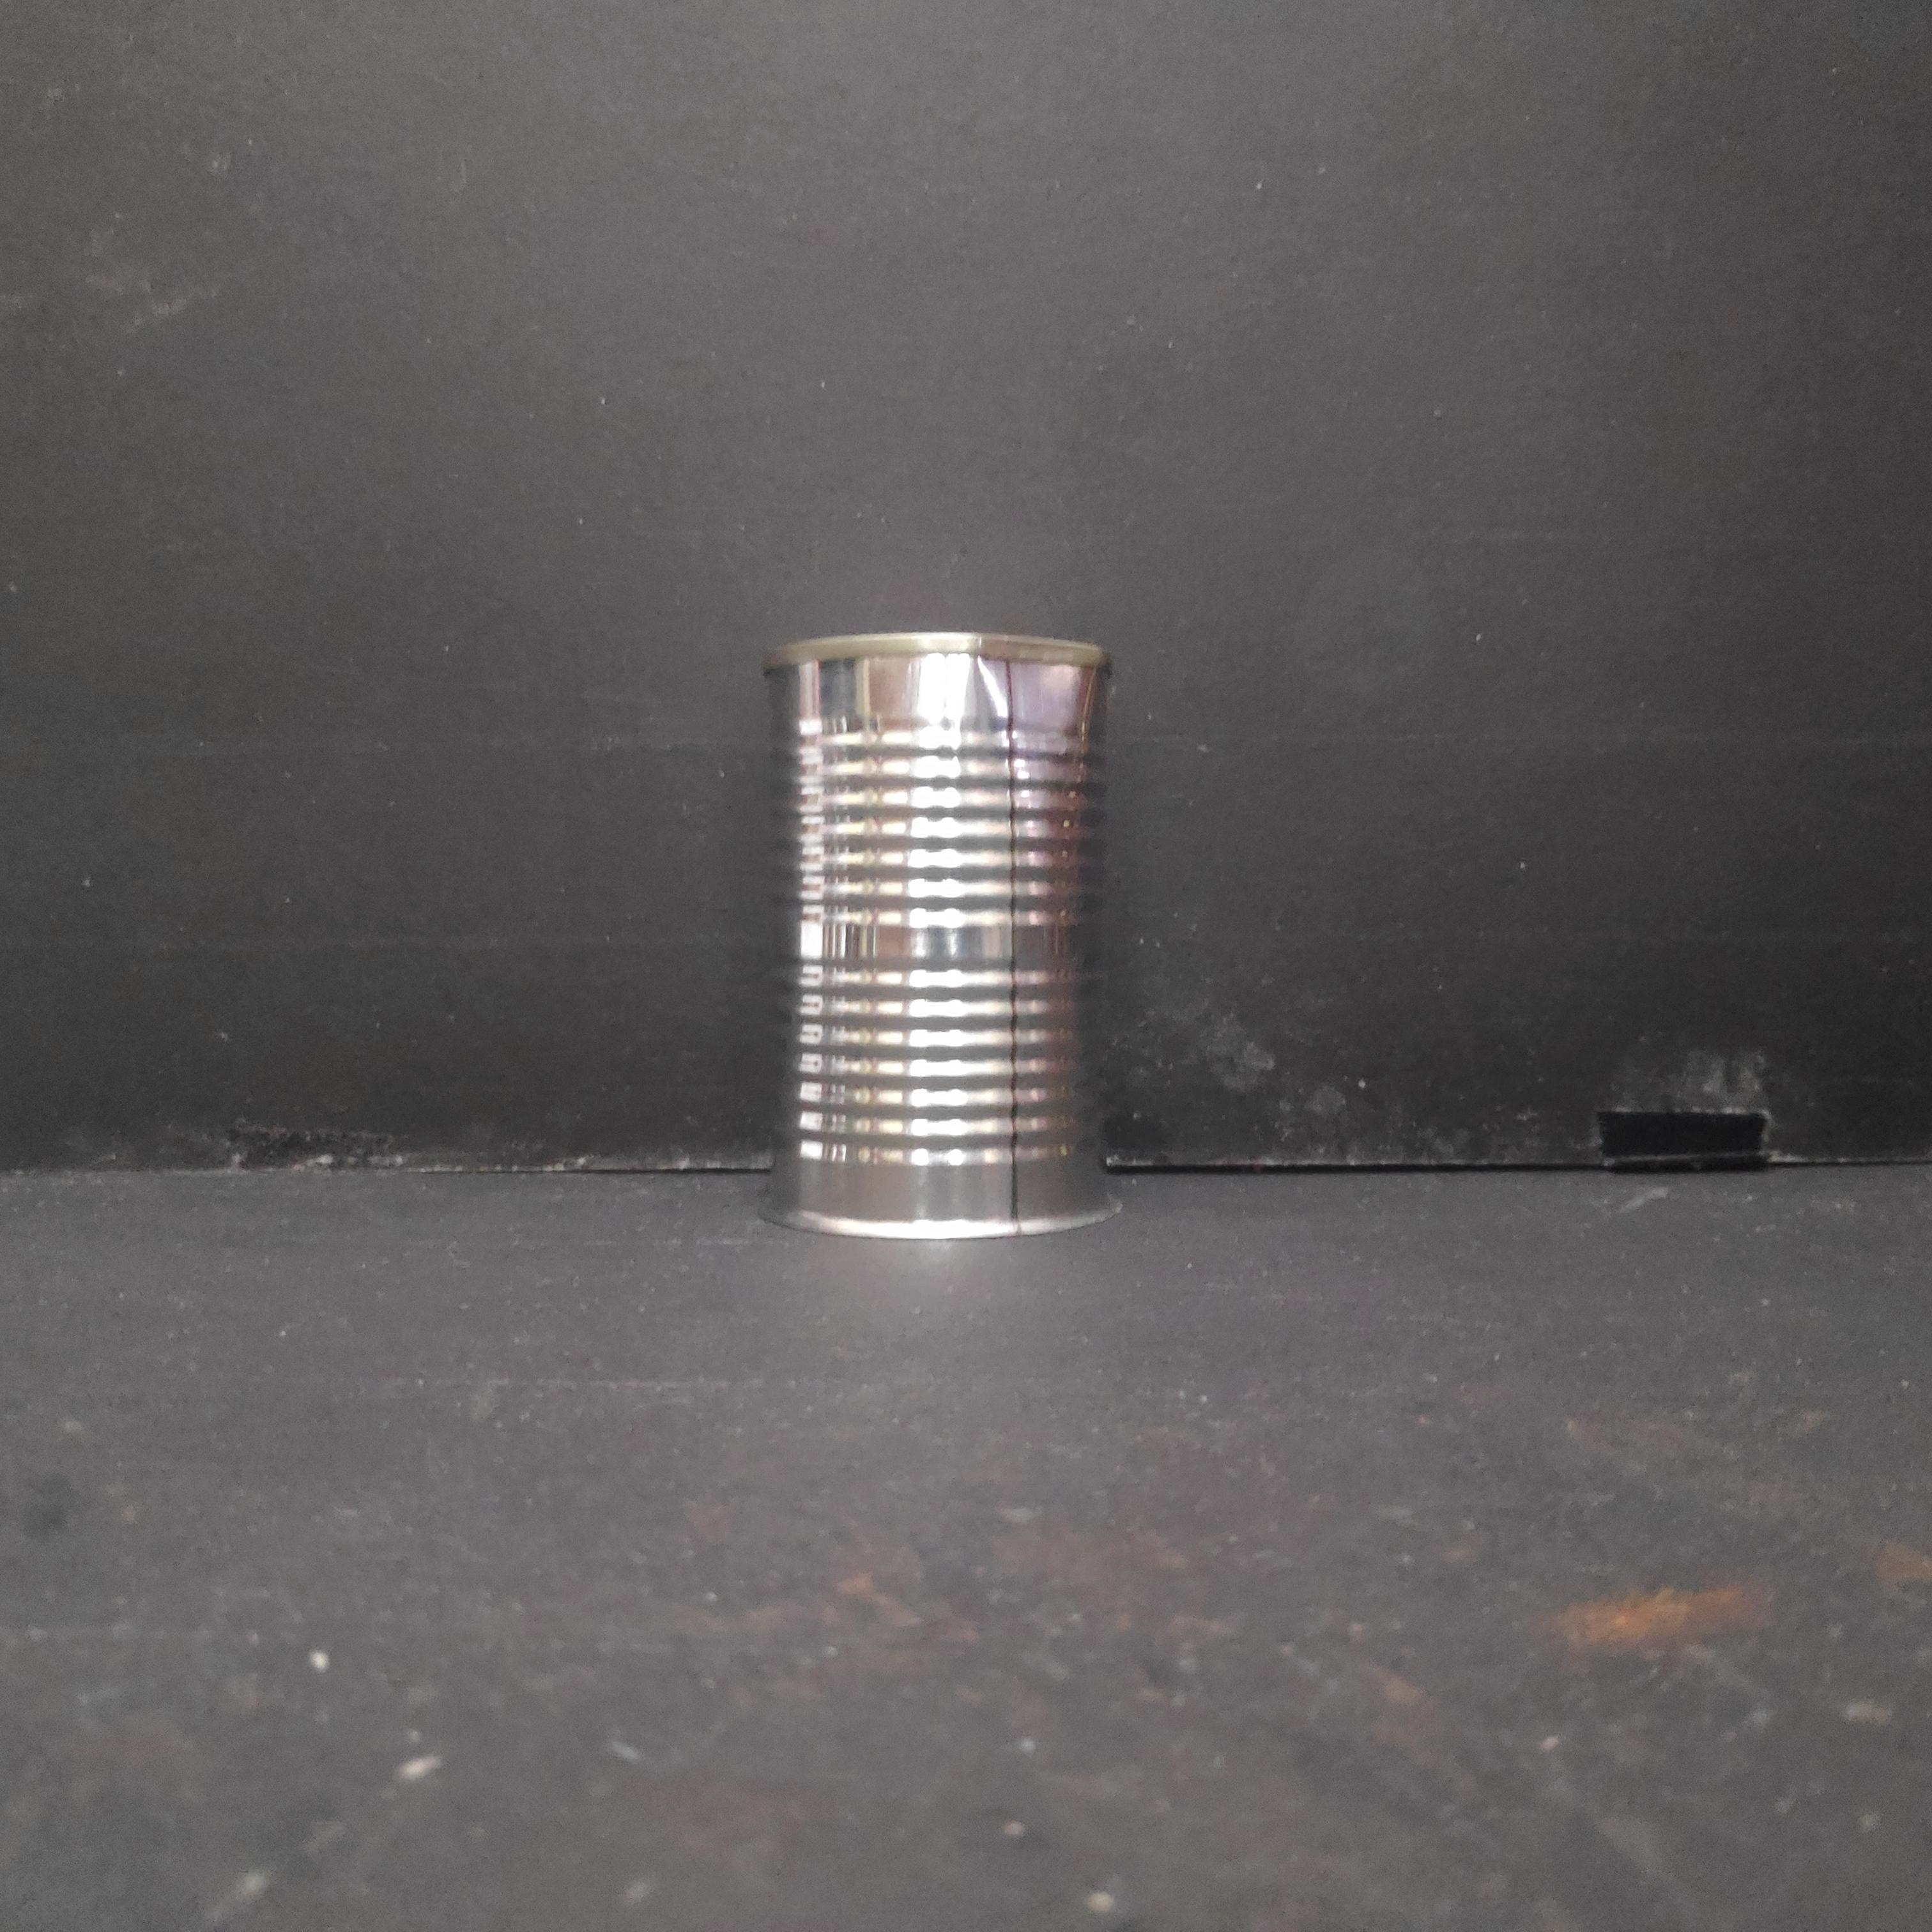Minor Defect: (755, 614, 1123, 1249)
